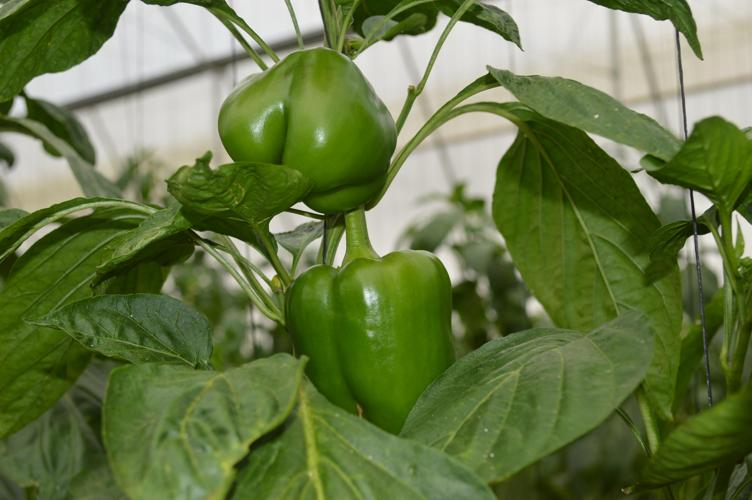BellPepper: (210, 47, 398, 234), (285, 251, 477, 424)
